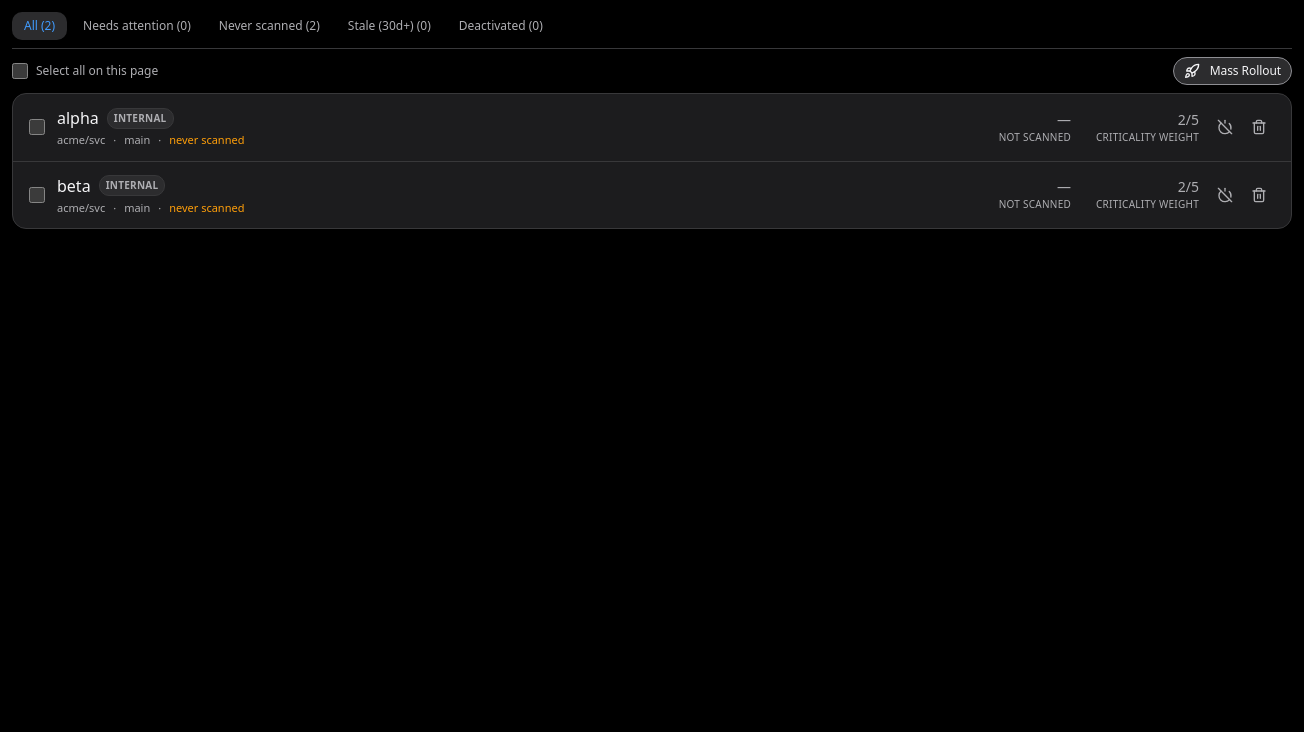
Scenario: TargetsList bulk selection › keeps the batch action label in step with the selection
Click the checkbox named "Select alpha" at (37,127), box [29,119,45,135]
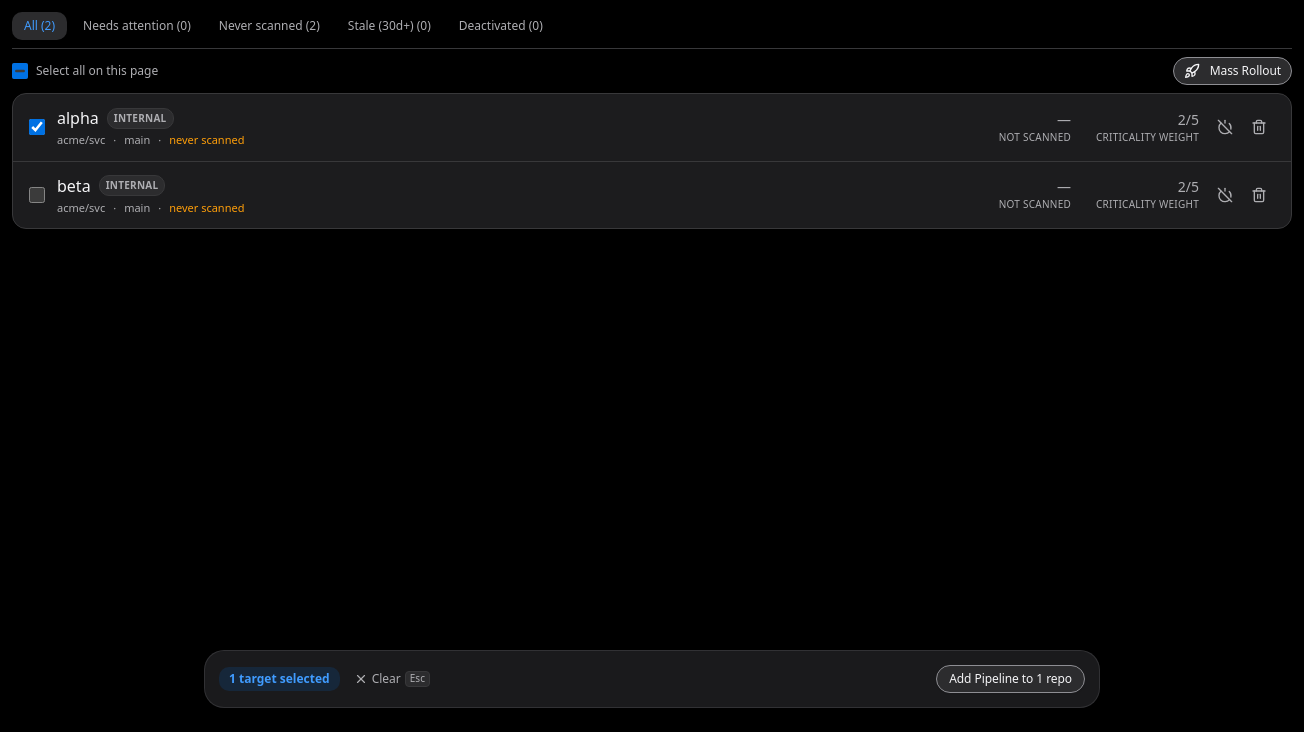
Check: the button "Add Pipeline to 1 repo" is shown, box [936,665,1085,693]
Click the checkbox named "Select beta" at (37,195), box [29,187,45,203]
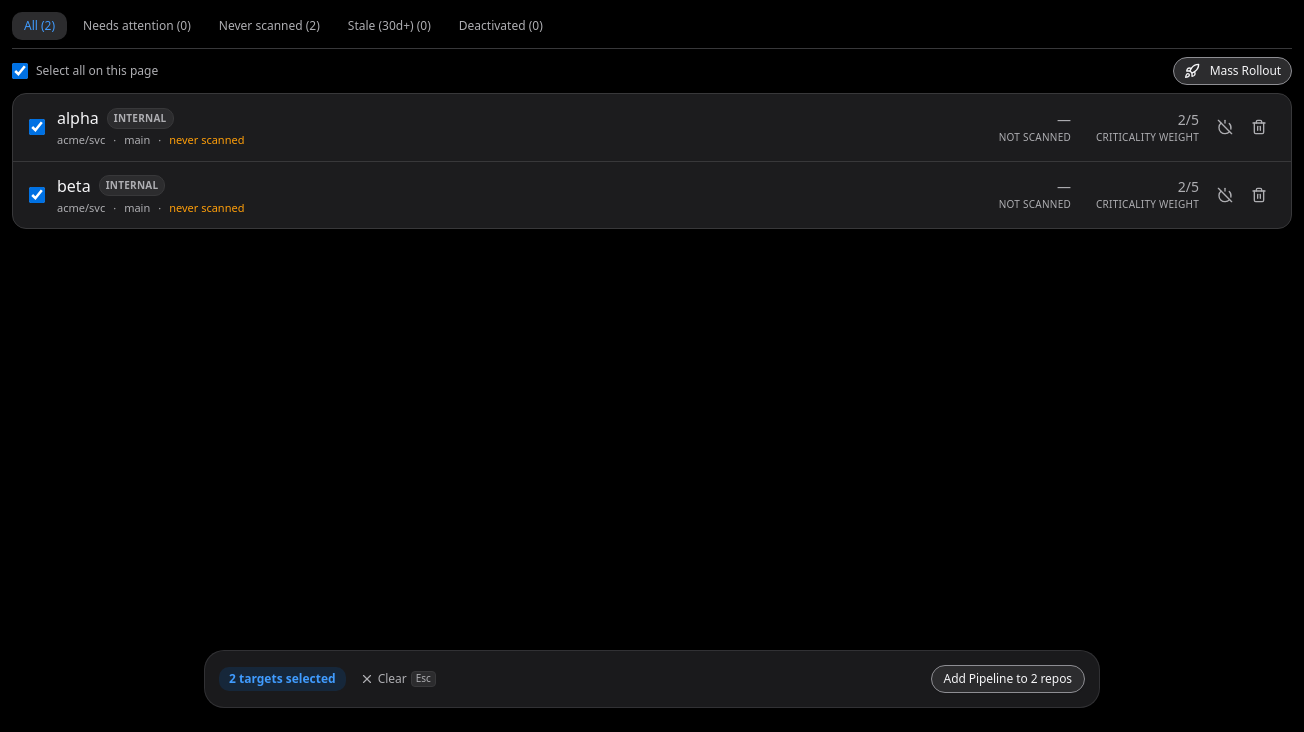
Check: the button "Add Pipeline to 2 repos" is shown, box [930,665,1085,693]
Check: the button "Add Pipeline to 1 repo" is gone
